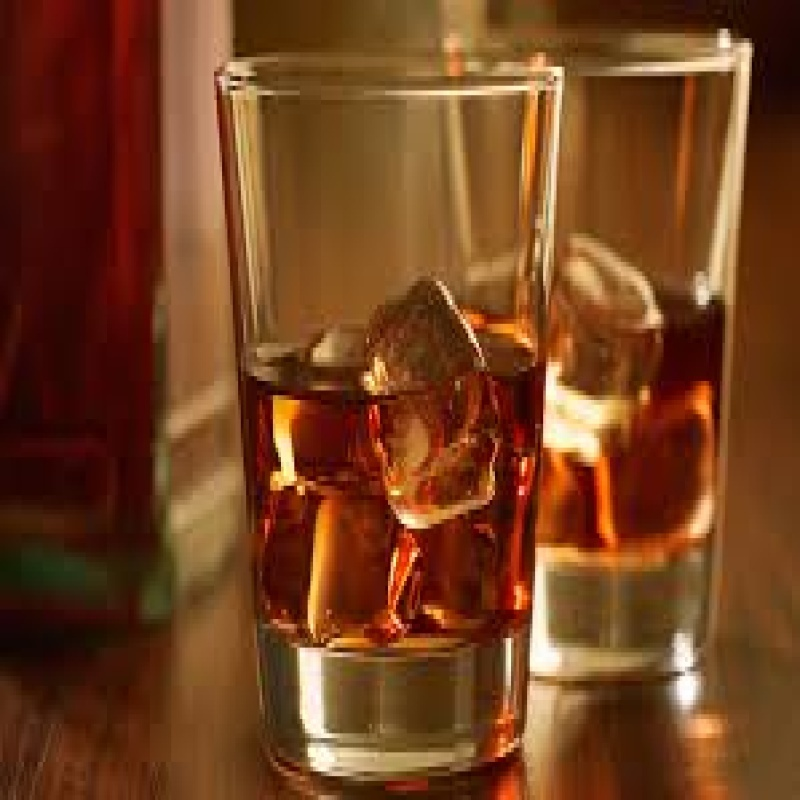whiskey: (203, 57, 545, 765), (454, 31, 758, 681)
